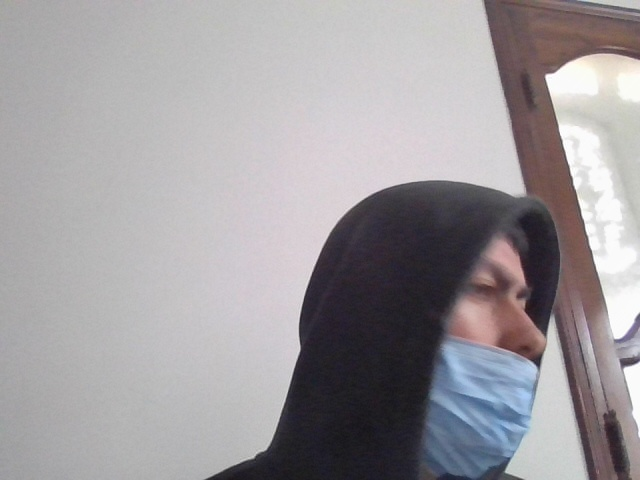mask_weared_incorrect: (416, 202, 554, 480)
